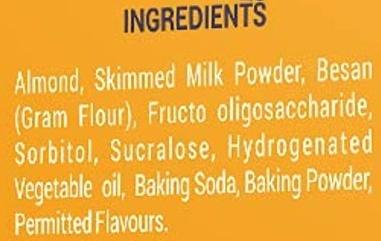ingredients: (6, 3, 377, 238)
